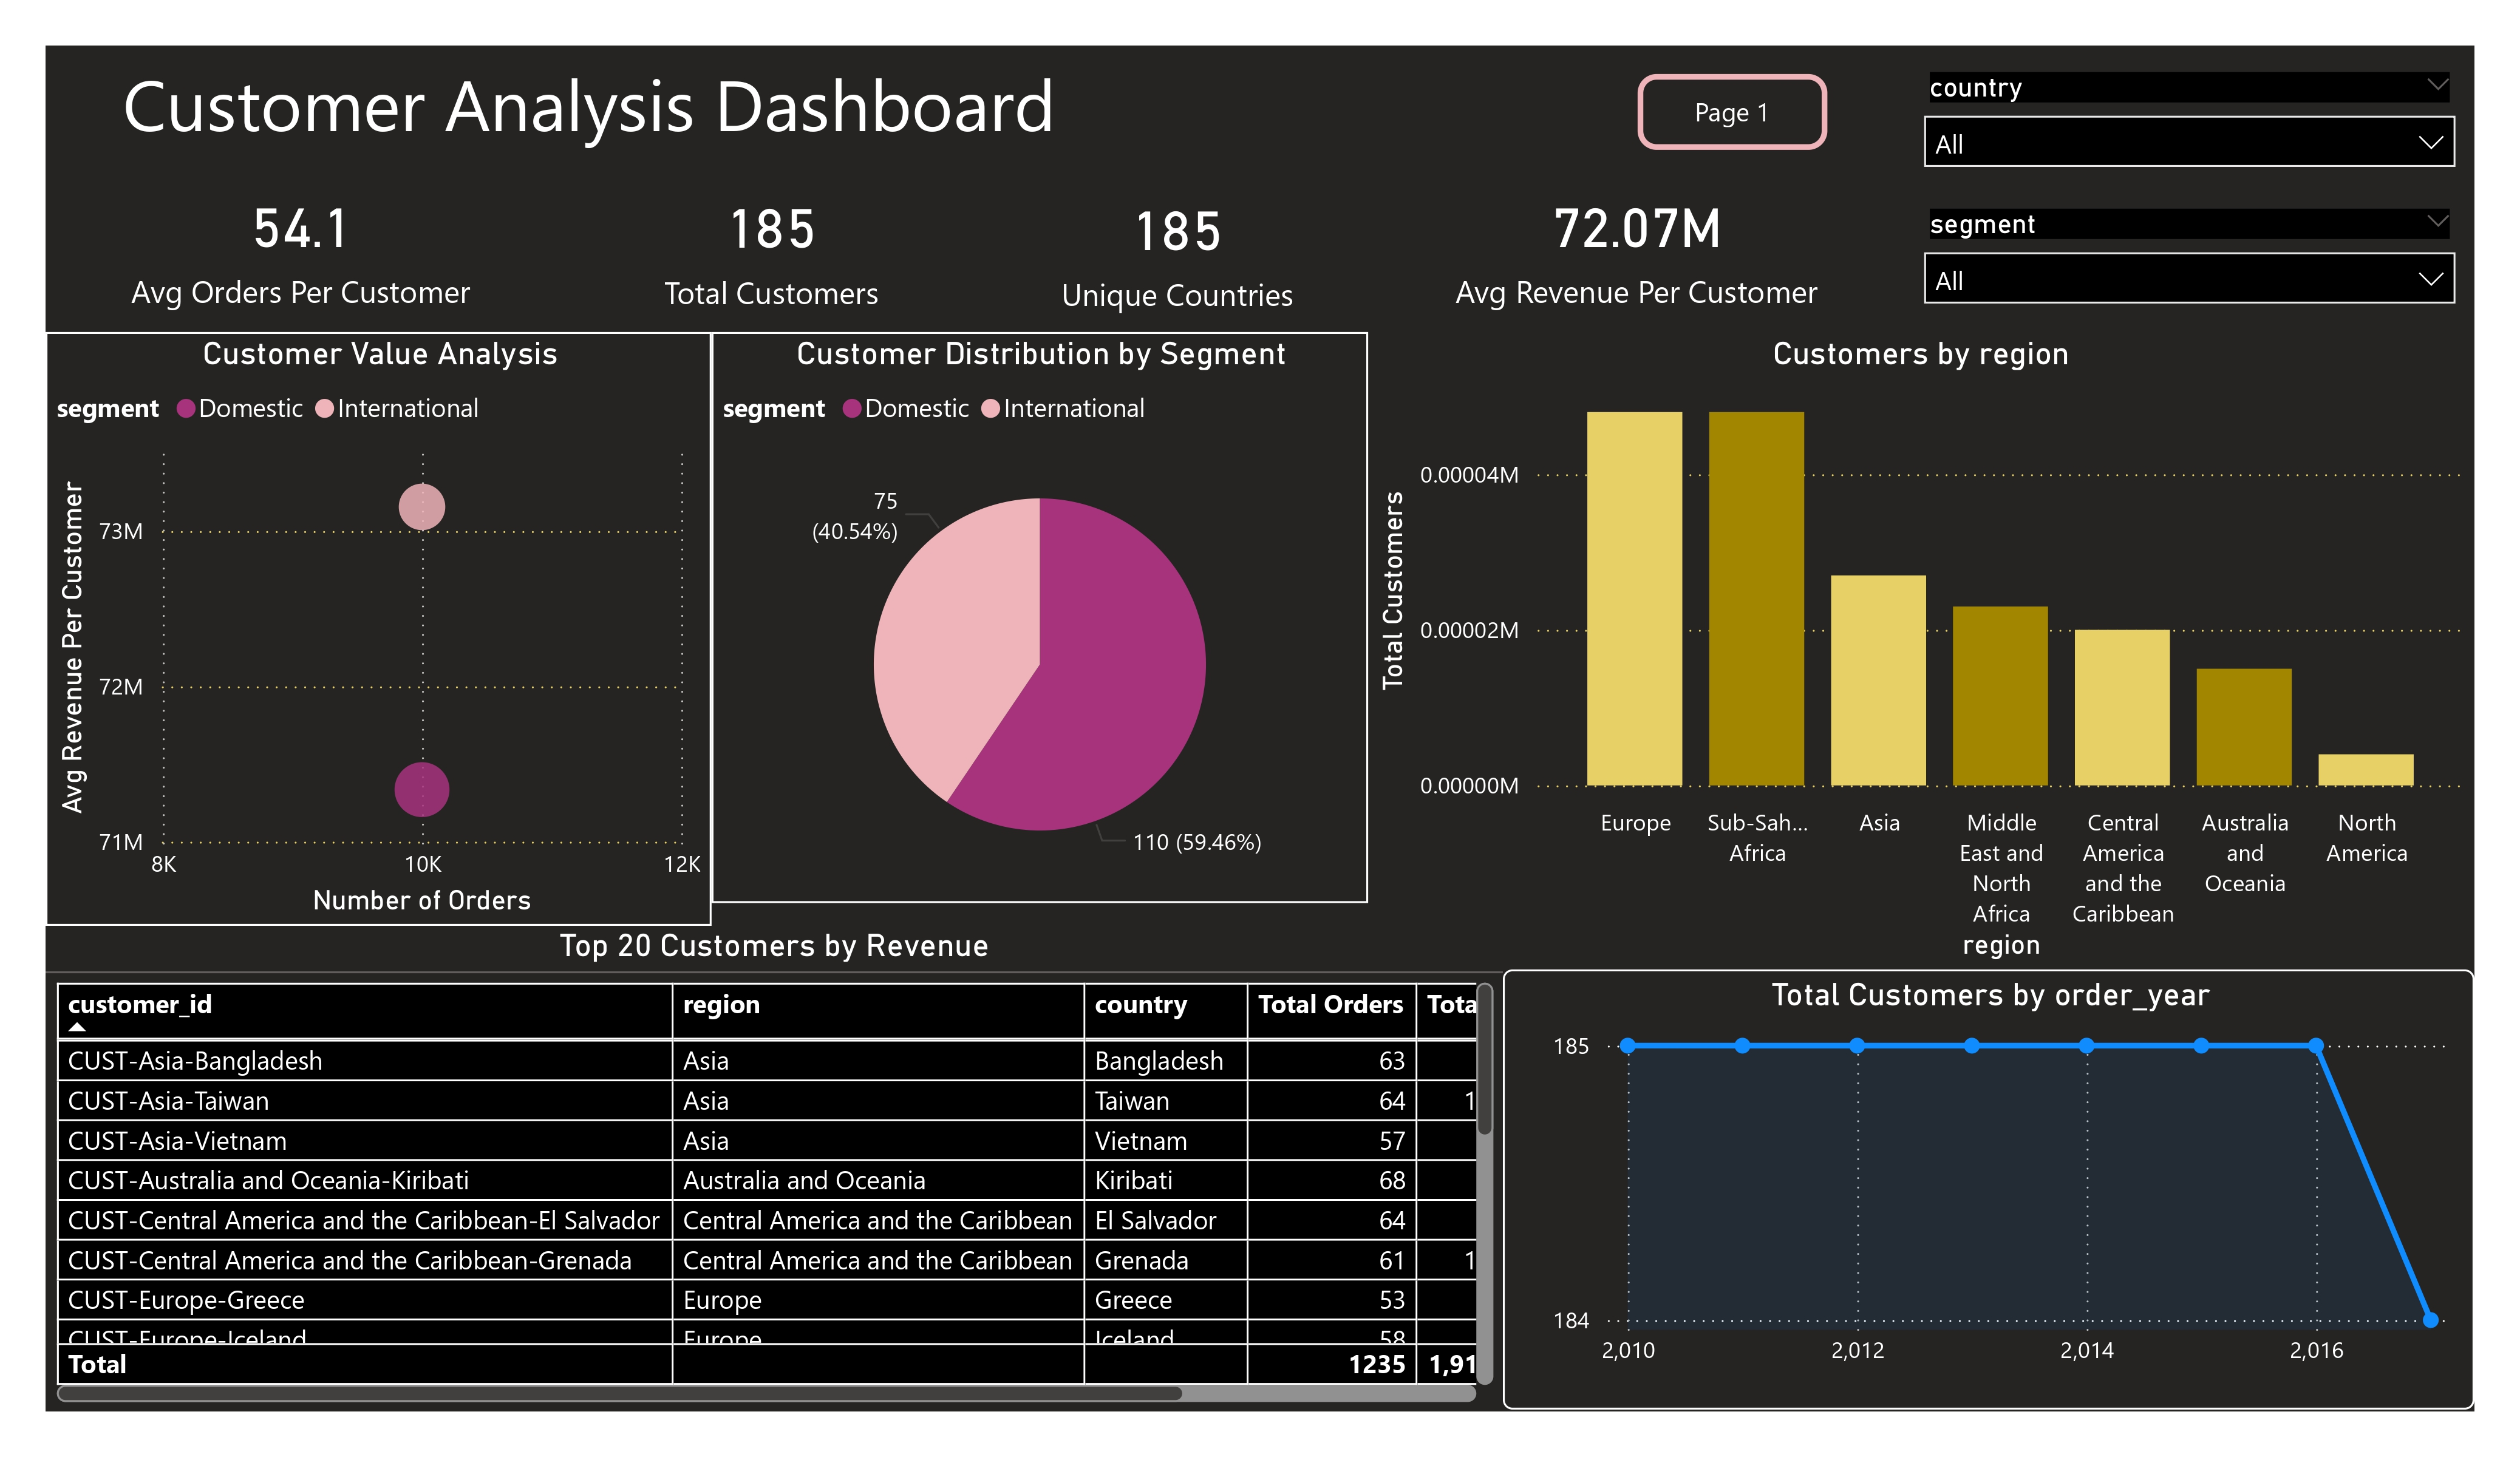

The dashboard page shown, as its layout file describes it:
{"tool":"powerbi","page":{"name":"Page 2","canvas":[1280,720],"ordinal":1},"visuals":[{"type":"textbox","box":[0,0,572.9,68.6],"z":0},{"type":"card","fields":{"Values":["Measures (2).Total Customers"]},"box":[269,65.9,227.3,79.3],"z":1000},{"type":"card","fields":{"Values":["Measures (2).Avg Revenue Per Customer"]},"box":[696.6,64.6,283.8,80.7],"z":2000},{"type":"card","fields":{"Values":["Measures (2).Avg Orders Per Customer"]},"box":[0,64.6,269,80.7],"z":3000},{"type":"card","fields":{"Values":["Measures (2).Unique Countries"]},"box":[496.2,64.6,200.4,83.4],"z":4000},{"type":"pieChart","title":"Customer Distribution by Segment","fields":{"Category":["public vw_sales_summary.segment"],"Y":["Measures (2).Total Customers"]},"box":[351,150.6,345.6,301.2],"z":5000},{"type":"clusteredColumnChart","title":"Customers by region","fields":{"Y":["Measures (2).Total Customers"],"Category":["public vw_sales_summary.region"]},"box":[696.6,152,583.7,334.9],"z":6000},{"type":"lineChart","fields":{"Y":["Measures (2).Total Customers"],"Category":["public vw_sales_summary.order_year"]},"box":[767.9,486.8,512.4,232.7],"z":7000},{"type":"scatterChart","title":"Customer Value Analysis","fields":{"X":["Measures (2).Orders Count"],"Y":["Measures (2).Avg Revenue Per Customer"],"Series":["public vw_sales_summary.segment"],"Size":["Measures (2).Total Revenue"]},"box":[0,150.6,351,313.3],"z":8000},{"type":"tableEx","title":"Top 20 Customers by Revenue","fields":{"Values":["public vw_sales_summary.customer_id","public vw_sales_summary.region","public vw_sales_summary.country","Measures (2).Total Orders","Measures (2).Total Revenue","Measures (2).Total Profit"]},"box":[0,464,767.9,255.5],"z":9000},{"type":"slicer","fields":{"Values":["public vw_sales_summary.segment"]},"box":[980.4,80.7,299.9,71.3],"z":10000},{"type":"slicer","fields":{"Values":["public vw_sales_summary.country"]},"box":[980.4,9.4,299.9,71.3],"z":11000},{"type":"actionButton","box":[839.2,14.8,99.5,40.3],"z":12000}]}

Visuals, with their boxes in screenshot pixels (x1, y1, x2, y2):
textbox: [left=46, top=46, right=1132, bottom=175]
card - Measures (2).Total Customers: [left=556, top=171, right=987, bottom=321]
card - Measures (2).Avg Revenue Per Customer: [left=1367, top=168, right=1906, bottom=321]
card - Measures (2).Avg Orders Per Customer: [left=46, top=168, right=556, bottom=321]
card - Measures (2).Unique Countries: [left=987, top=168, right=1367, bottom=327]
"Customer Distribution by Segment" pieChart: [left=712, top=331, right=1367, bottom=903]
"Customers by region" clusteredColumnChart: [left=1367, top=334, right=2474, bottom=970]
lineChart - Measures (2).Total Customers x public vw_sales_summary.order_year: [left=1503, top=969, right=2474, bottom=1410]
"Customer Value Analysis" scatterChart: [left=46, top=331, right=712, bottom=926]
"Top 20 Customers by Revenue" tableEx: [left=46, top=926, right=1503, bottom=1410]
slicer - public vw_sales_summary.segment: [left=1906, top=199, right=2474, bottom=334]
slicer - public vw_sales_summary.country: [left=1906, top=63, right=2474, bottom=199]
actionButton: [left=1638, top=73, right=1827, bottom=150]
